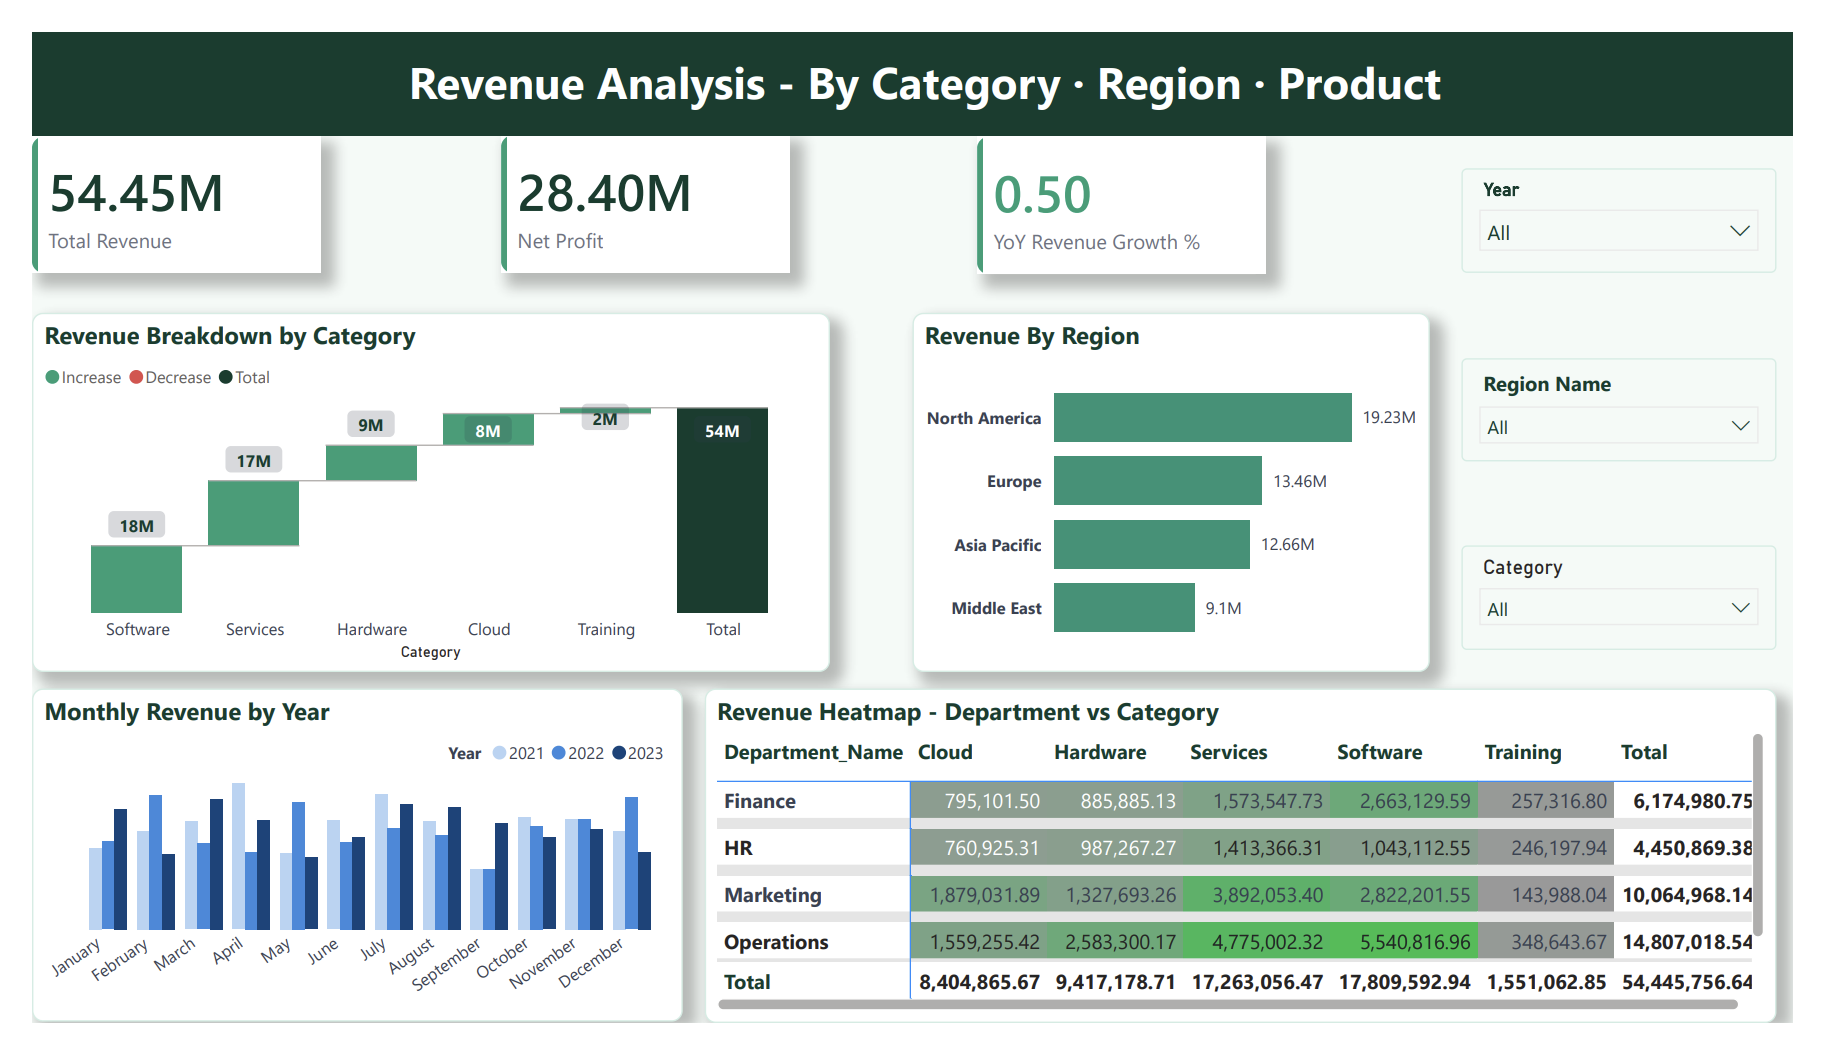

Layout of this report page (visuals, bound fields, positions):
{"tool":"powerbi","page":{"name":"Revenue Analysis","canvas":[1280,720],"ordinal":1},"visuals":[{"type":"shape","box":[0,0,1280,75],"z":0,"group":"g1"},{"type":"waterfallChart","title":"Revenue Breakdown by Category","fields":{"Category":["Products.Category"],"Y":["_Measure (2).Total Revenue"]},"box":[0,204.3,579.7,260.7],"z":0},{"type":"textbox","box":[269.4,8.8,818,57.4],"z":1000,"group":"g1"},{"type":"clusteredColumnChart","title":"Monthly Revenue by Year","fields":{"Category":["Date_Table.Month_Name"],"Y":["_Measure (2).Total Revenue"],"Series":["Date_Table.Year"]},"box":[0,476.6,472.7,242.2],"z":1000},{"type":"clusteredBarChart","title":"Revenue By Region","fields":{"Category":["Regions.Region_Name"],"Y":["_Measure (2).Total Revenue"]},"box":[640,204.3,376.4,260.7],"z":2000},{"type":"pivotTable","title":"Revenue Heatmap - Department vs Category","fields":{"Rows":["Departments.Department_Name"],"Columns":["Products.Category"],"Values":["_Measure (2).Total Revenue"]},"box":[489.2,476.6,779.1,243.2],"z":3000},{"type":"cardVisual","fields":{"Data":["_Measure (2).Total Revenue"]},"box":[0,75.9,210.1,99.2],"z":4000},{"type":"cardVisual","fields":{"Data":["_Measure (2).Net Profit"]},"box":[341.4,74.9,210.1,100.2],"z":5000},{"type":"cardVisual","fields":{"Data":["_Measure (2).YoY Revenue Growth %"]},"box":[686.7,75.9,210.1,100.2],"z":6000},{"type":"slicer","fields":{"Values":["Regions.Region_Name"]},"box":[1038.8,237.3,229.5,74.9],"z":7000},{"type":"slicer","fields":{"Values":["Date_Table.Year"]},"box":[1038.8,99.2,229.5,75.9],"z":8000},{"type":"slicer","fields":{"Values":["Products.Category"]},"box":[1038.8,373.5,229.5,75.9],"z":9000},{"type":"group","id":"g1","title":"Group 1","box":[0,0,1280,75],"z":10000}]}

Visuals, with their boxes in screenshot pixels (x1, y1, x2, y2), scaled from the page's 1280x720 canvas onto the 1826x1052 screenshot:
shape: rect(0, 0, 1825, 110)
"Revenue Breakdown by Category" waterfallChart: rect(0, 299, 827, 679)
textbox: rect(384, 13, 1551, 97)
"Monthly Revenue by Year" clusteredColumnChart: rect(0, 696, 674, 1050)
"Revenue By Region" clusteredBarChart: rect(913, 299, 1450, 679)
"Revenue Heatmap - Department vs Category" pivotTable: rect(698, 696, 1809, 1051)
cardVisual - _Measure (2).Total Revenue: rect(0, 111, 300, 256)
cardVisual - _Measure (2).Net Profit: rect(487, 109, 787, 256)
cardVisual - _Measure (2).YoY Revenue Growth %: rect(980, 111, 1279, 257)
slicer - Regions.Region_Name: rect(1482, 347, 1809, 456)
slicer - Date_Table.Year: rect(1482, 145, 1809, 256)
slicer - Products.Category: rect(1482, 546, 1809, 657)
"Group 1" group: rect(0, 0, 1825, 110)
